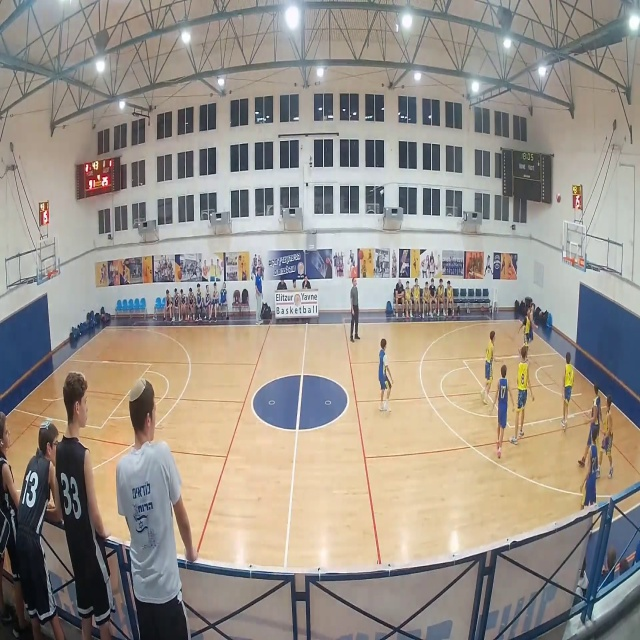Basketball: (556, 194, 561, 202)
